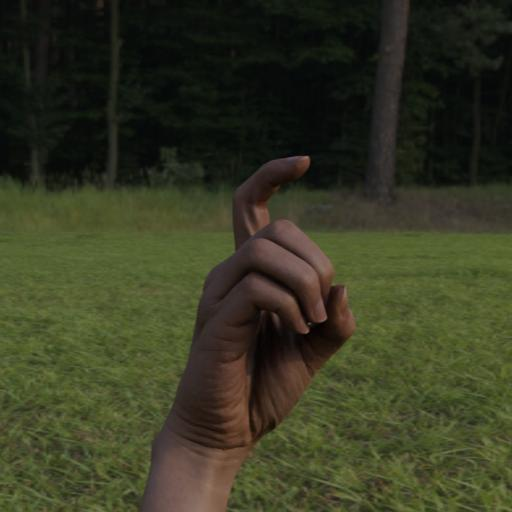X: (154, 142, 368, 484)
